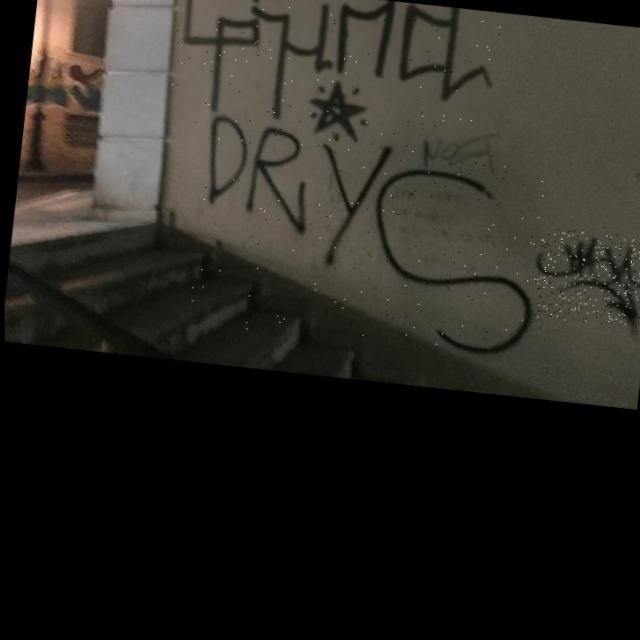-: (184, 110, 553, 364), (164, 0, 504, 158), (526, 226, 640, 332)
